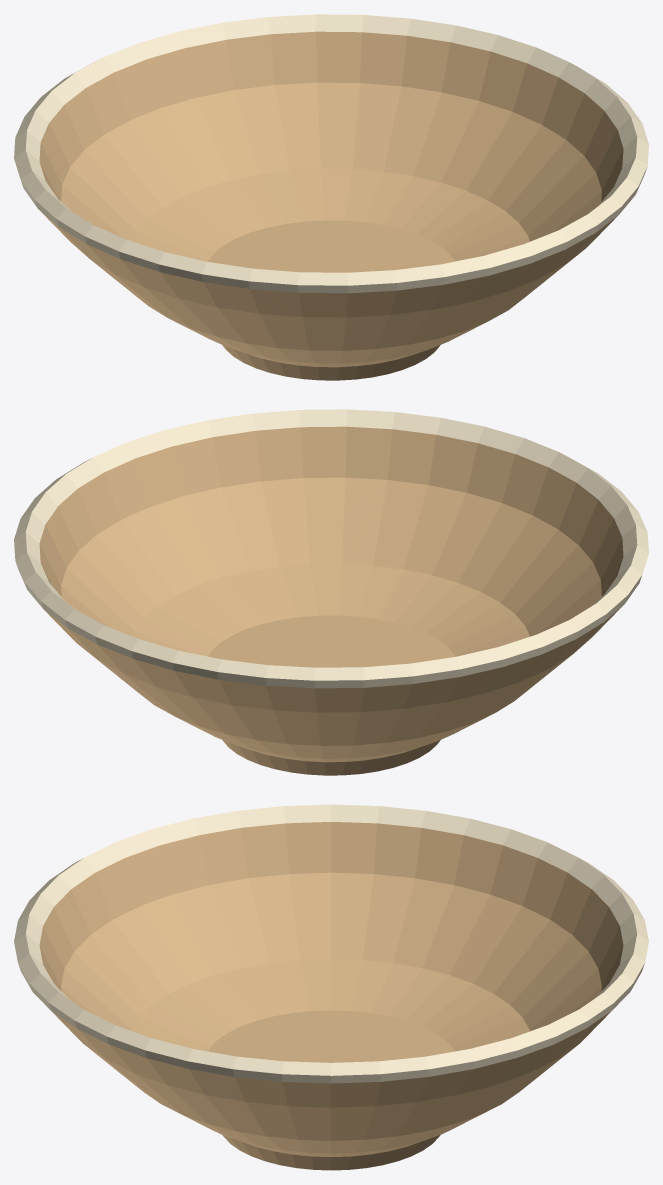
File: bowl.glb
3 renders of one model, top to bottom at view 1: azimuth 30°, elevation 25°; view 2: azimuth 150°, elevation 25°; view 3: azimuth 270°, elevation 25°, orthographic.
Parts seen in each view (by area): view 1: Breakfast_Bowl; view 2: Breakfast_Bowl; view 3: Breakfast_Bowl.
Boxes of the visible parts, x1,y1,x2,y2 form: Breakfast_Bowl: (14,14,648,380); Breakfast_Bowl: (14,409,648,775); Breakfast_Bowl: (14,804,648,1170).
Size of the model in its own units: 0.648 by 0.213 by 0.648.
